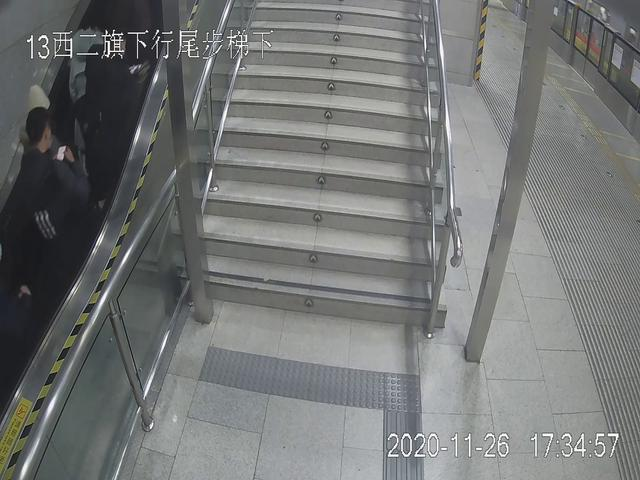person: (14, 102, 77, 292)
